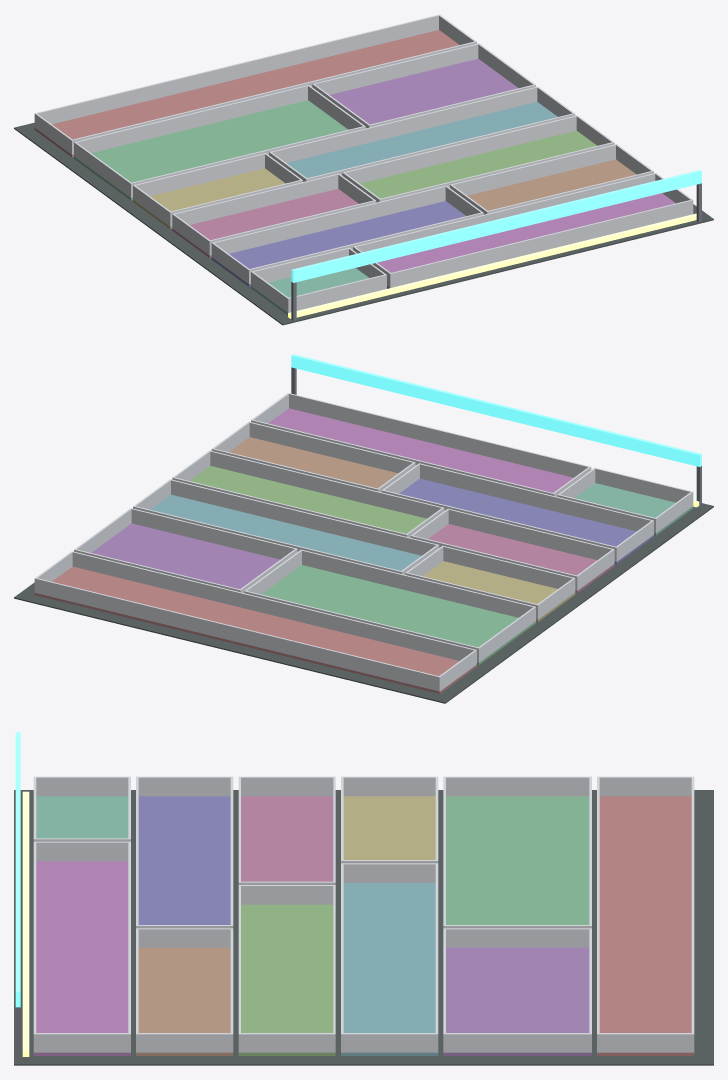
File: hall-security-sys.glb
3 views of the same model, one above another, from view 1: azimuth 30°, elevation 25°; view 2: azimuth 150°, elevation 25°; view 3: azimuth 270°, elevation 25° (orthographic). The views are drawn at different scales.
Visible parts, largest first — view 1: Security Systems Installers; view 2: Security Systems Installers; view 3: Security Systems Installers.
Part boxes in pixels (x1,y1,x2,y2): Security Systems Installers: [14, 14, 713, 325]; Security Systems Installers: [14, 354, 713, 703]; Security Systems Installers: [14, 732, 713, 1065].
Bounding box in the file's own units: 38 × 4.3 × 41.
